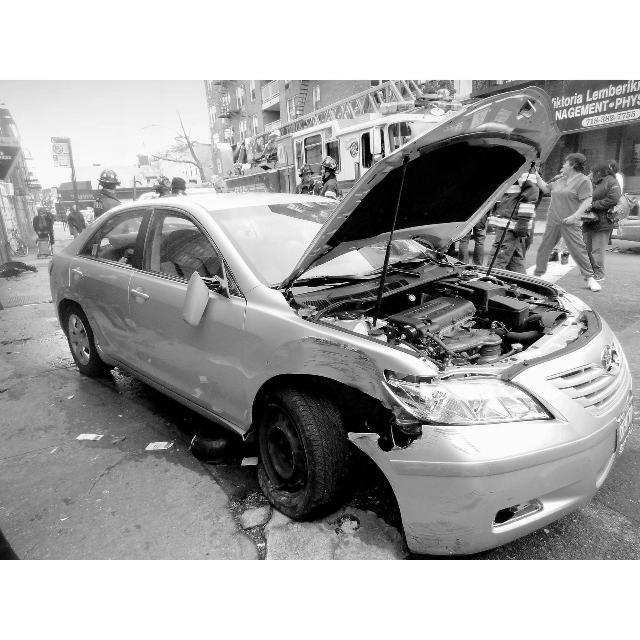fender-dent: (255, 329, 425, 482)
front-bumper-dent: (402, 426, 594, 554)
